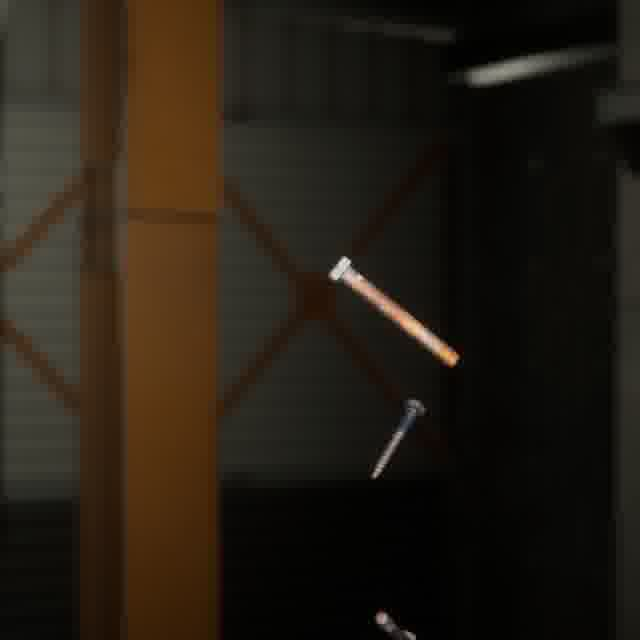bolt: (323, 251, 463, 371), (367, 394, 430, 483), (370, 607, 421, 640)
